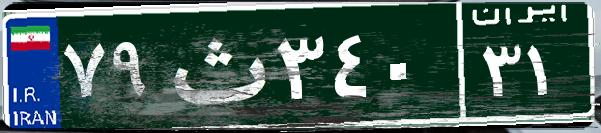0: (385, 28, 445, 110)
1: (525, 38, 570, 115)
3: (273, 28, 330, 110), (475, 38, 525, 113)
4: (330, 28, 385, 110)
7: (57, 26, 110, 107)
9: (110, 28, 158, 105)
ث: (158, 15, 273, 115)
